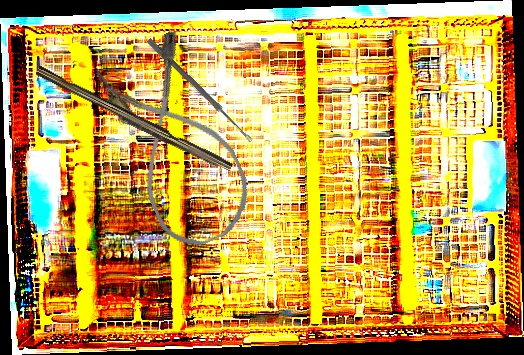Cannula: (90, 27, 264, 258)
Scalpel Handle: (32, 65, 235, 176)
Surgical Spoon: (145, 37, 255, 144)
